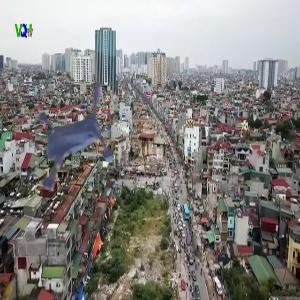drone: (8, 91, 139, 222)
